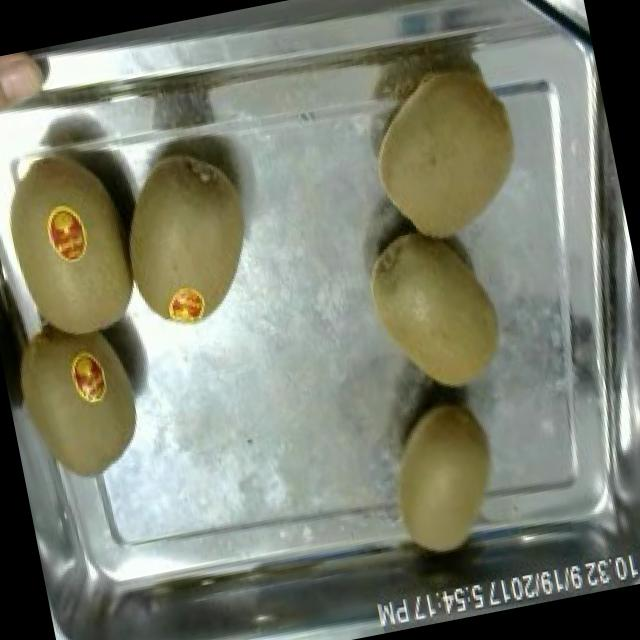Fruit: (348, 46, 543, 260), (0, 133, 161, 361), (348, 209, 522, 414), (107, 132, 274, 342), (0, 301, 162, 498), (370, 386, 515, 570), (0, 46, 64, 147)
